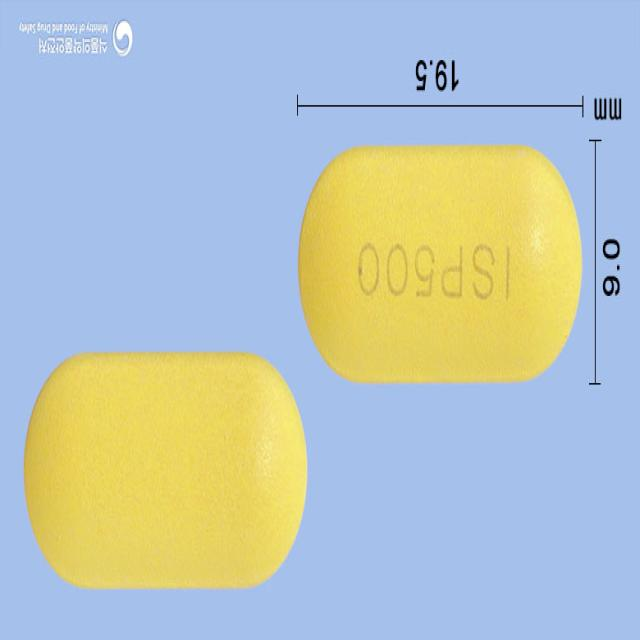Ilsung Clarithromycin: (24, 352, 308, 594), (296, 148, 584, 386)
